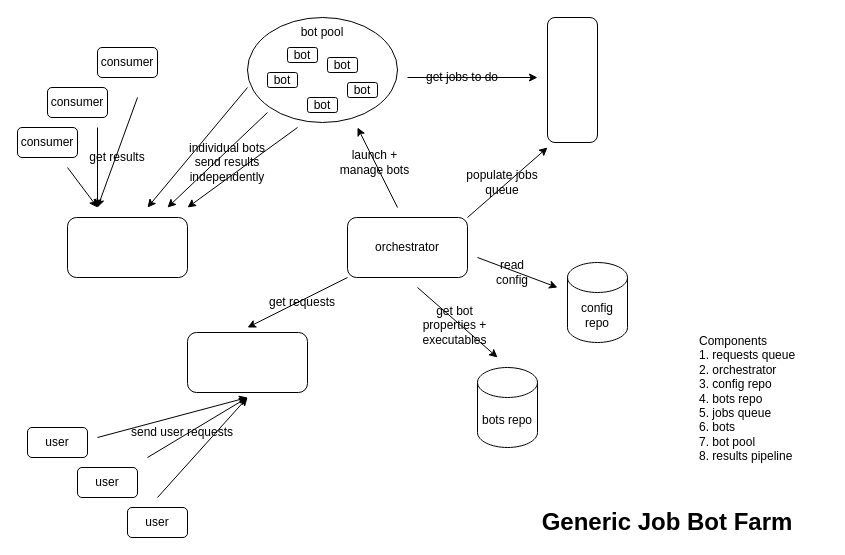
This 845x555 diagram has some shape labels left out. Each missing label, with the centre of its shape:
jobs queue: [572,79]
requests queue: [247,362]
results pipeline: [127,247]
